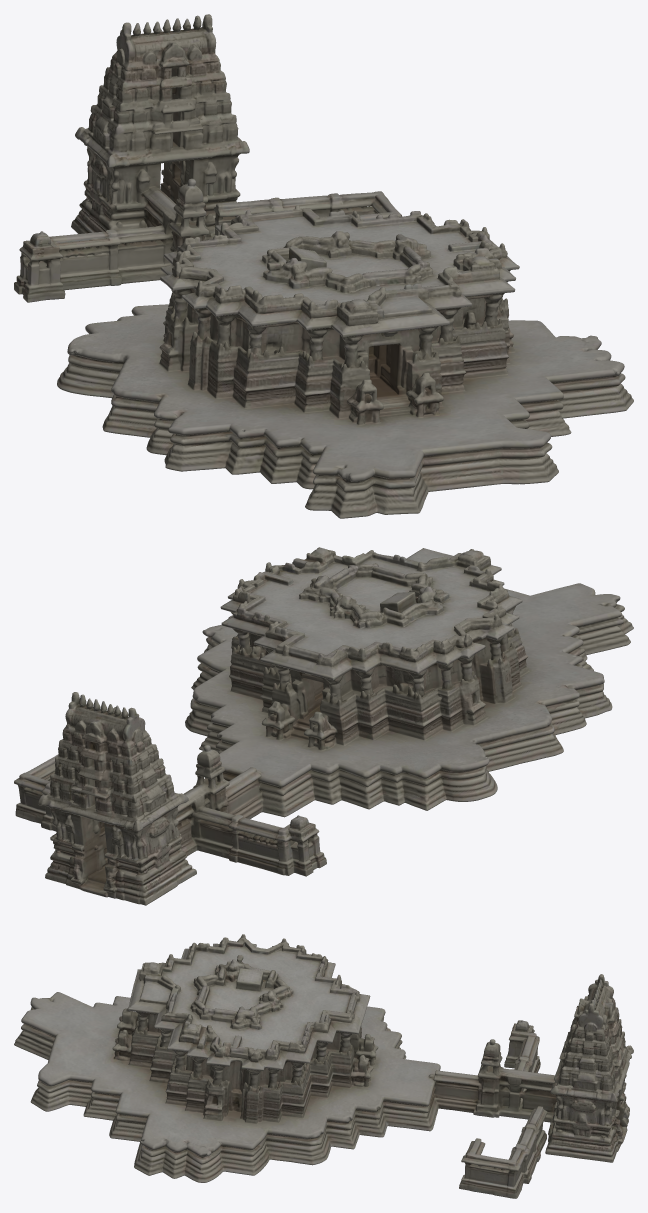
File: Chennakeshava.glb
3 views of the same model, one above another, from view 1: azimuth 30°, elevation 25°; view 2: azimuth 150°, elevation 25°; view 3: azimuth 270°, elevation 25° (orthographic). The views are drawn at different scales.
Visible parts, largest first — view 1: Mesh::generatedModels/O3Ceh7okUVWhCtWezfju.gltf; view 2: Mesh::generatedModels/O3Ceh7okUVWhCtWezfju.gltf; view 3: Mesh::generatedModels/O3Ceh7okUVWhCtWezfju.gltf.
Boxes of the visible parts, x1=… form: Mesh::generatedModels/O3Ceh7okUVWhCtWezfju.gltf: x1=14, y1=14, x2=633, y2=518; Mesh::generatedModels/O3Ceh7okUVWhCtWezfju.gltf: x1=14, y1=547, x2=633, y2=905; Mesh::generatedModels/O3Ceh7okUVWhCtWezfju.gltf: x1=14, y1=934, x2=633, y2=1198.
Bounding box in the file's own units: 0.6117 × 0.2752 × 0.9925.
1 material, 1 textured.
